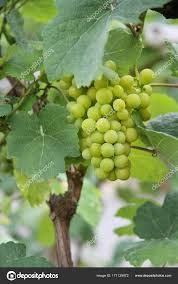grapes: (54, 65, 165, 196)
